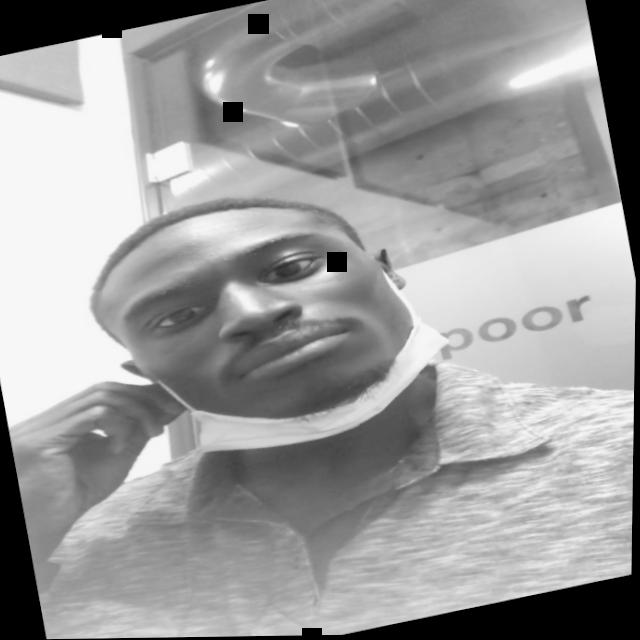NO-Mask: (102, 192, 421, 449)
